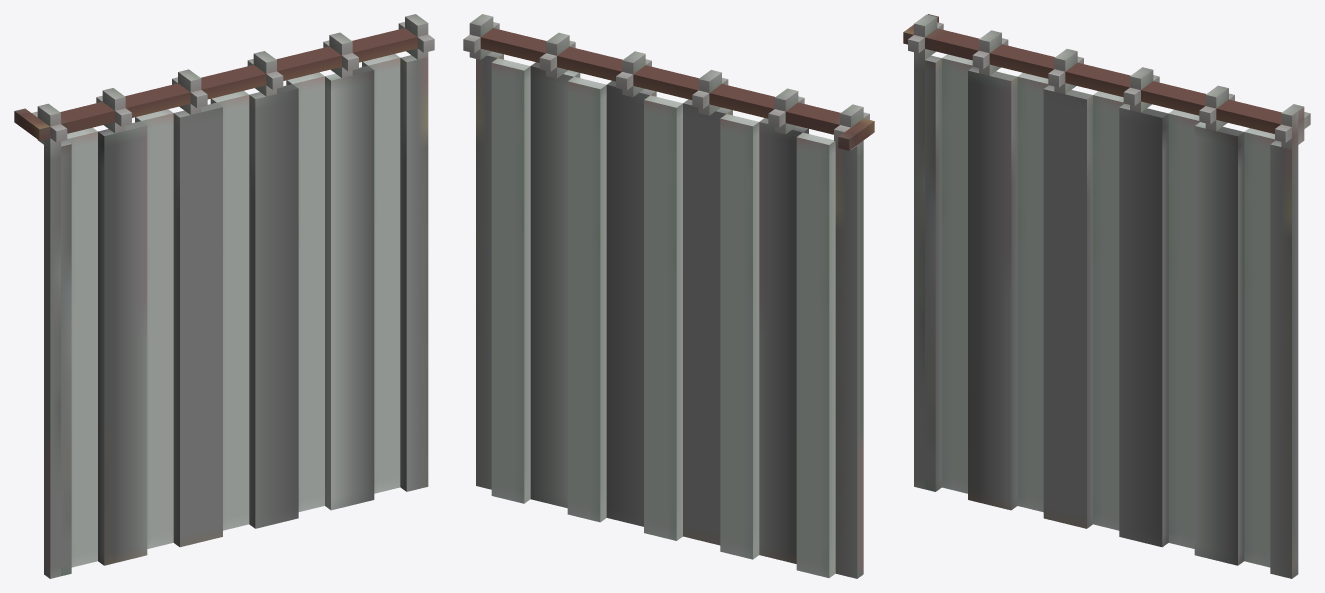
Rendered from CurtainGrey_01.fbx.
3 renders of one model, left to right at view 1: azimuth 30°, elevation 25°; view 2: azimuth 150°, elevation 25°; view 3: azimuth 330°, elevation 25°, orthographic.
Parts seen in each view (by area): view 1: CurtainGrey_01; view 2: CurtainGrey_01; view 3: CurtainGrey_01.
Boxes of the visible parts, box(x1,y1,x2,y2) form: CurtainGrey_01: box(14, 14, 434, 578); CurtainGrey_01: box(463, 14, 874, 578); CurtainGrey_01: box(903, 14, 1310, 578).
Size of the model in its own units: 180 by 25 by 205.
1 material, 1 textured.
